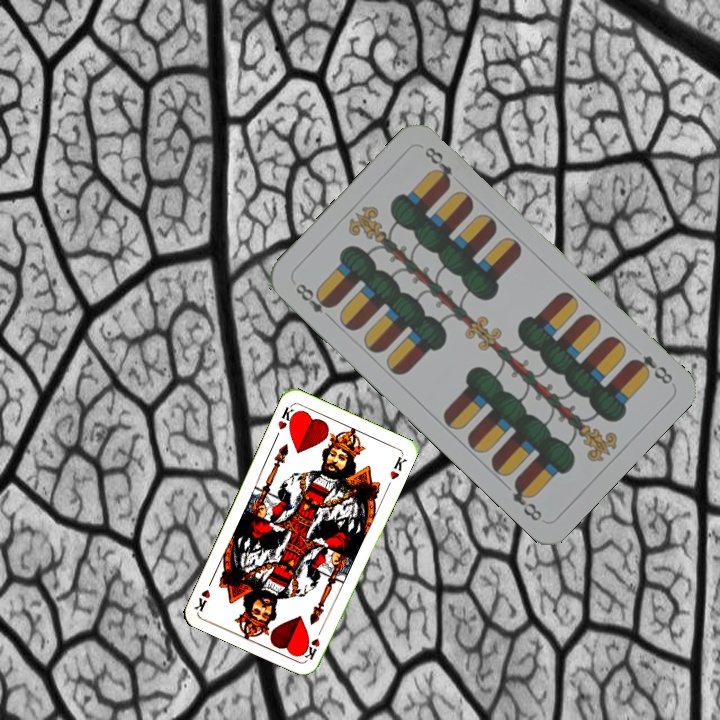E8: (291, 279, 336, 324), (627, 351, 676, 387)
HK: (272, 402, 300, 440), (300, 623, 326, 663)
